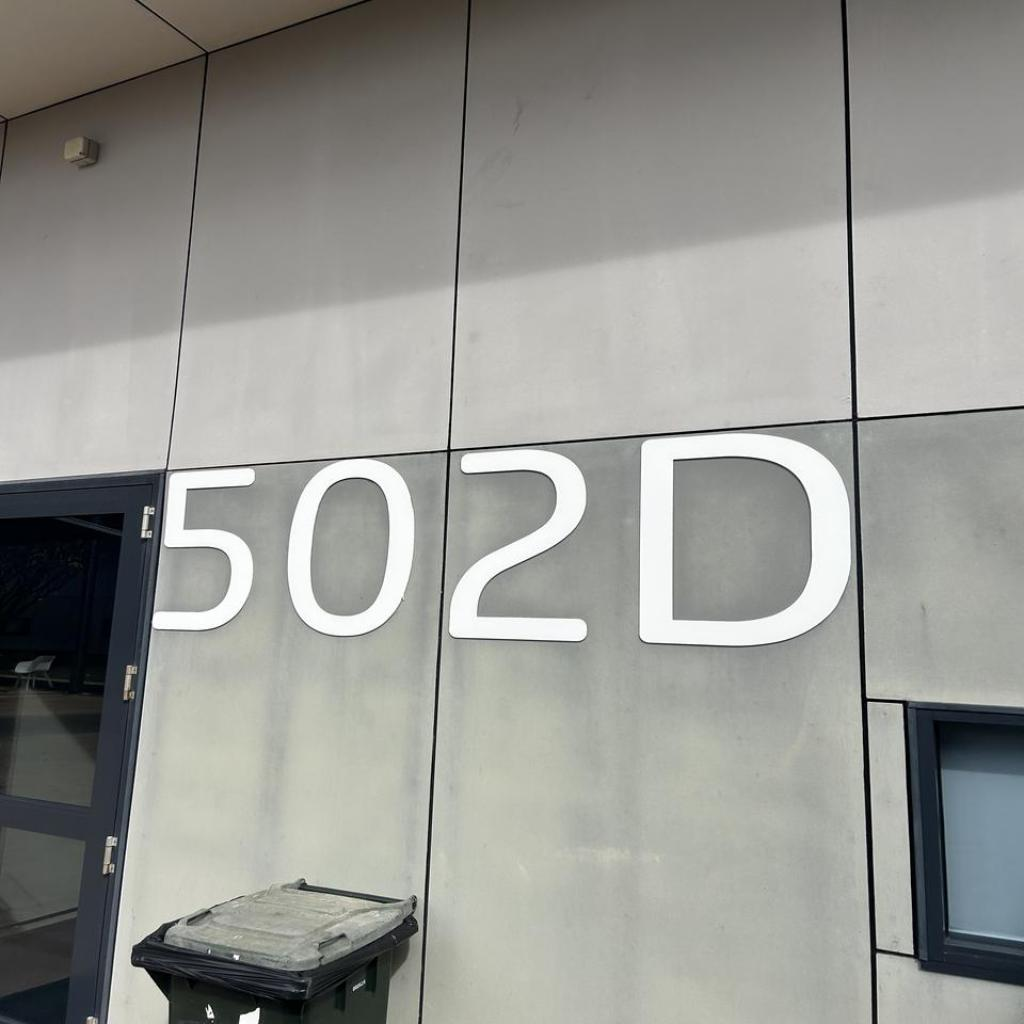BuildingCodes: (144, 422, 856, 650)
